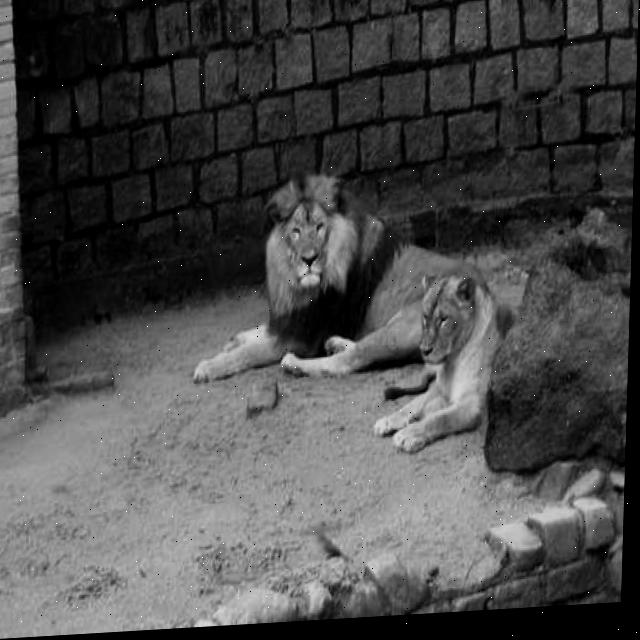Lion: (244, 143, 397, 372), (410, 263, 482, 412)
